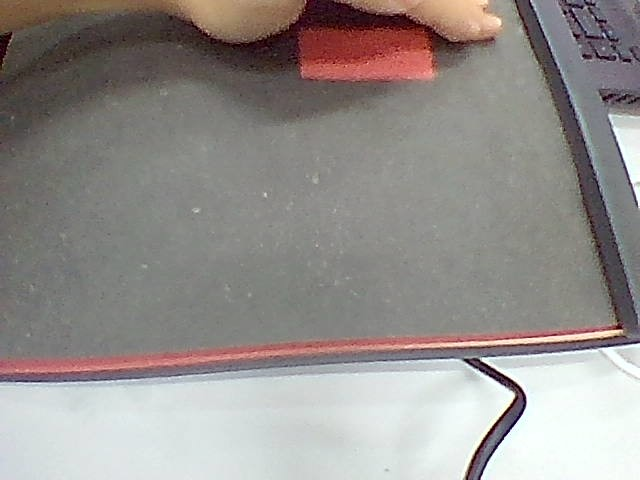card: (299, 24, 435, 81)
